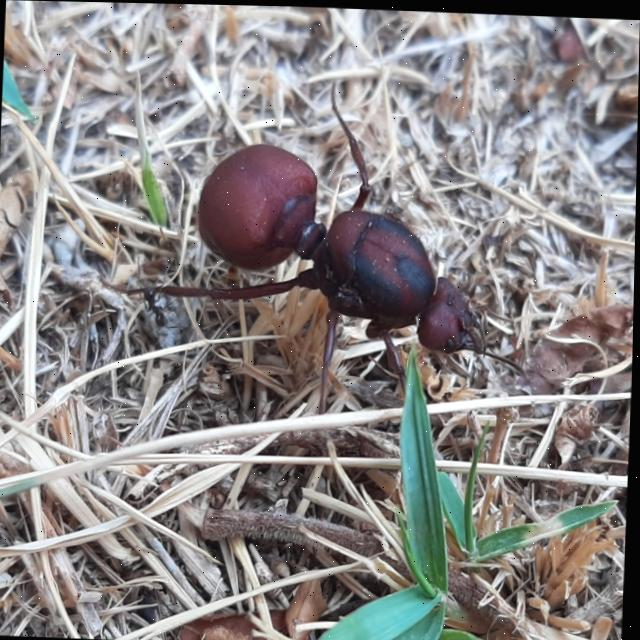Alive-Female-Dealate: (123, 69, 541, 428)
